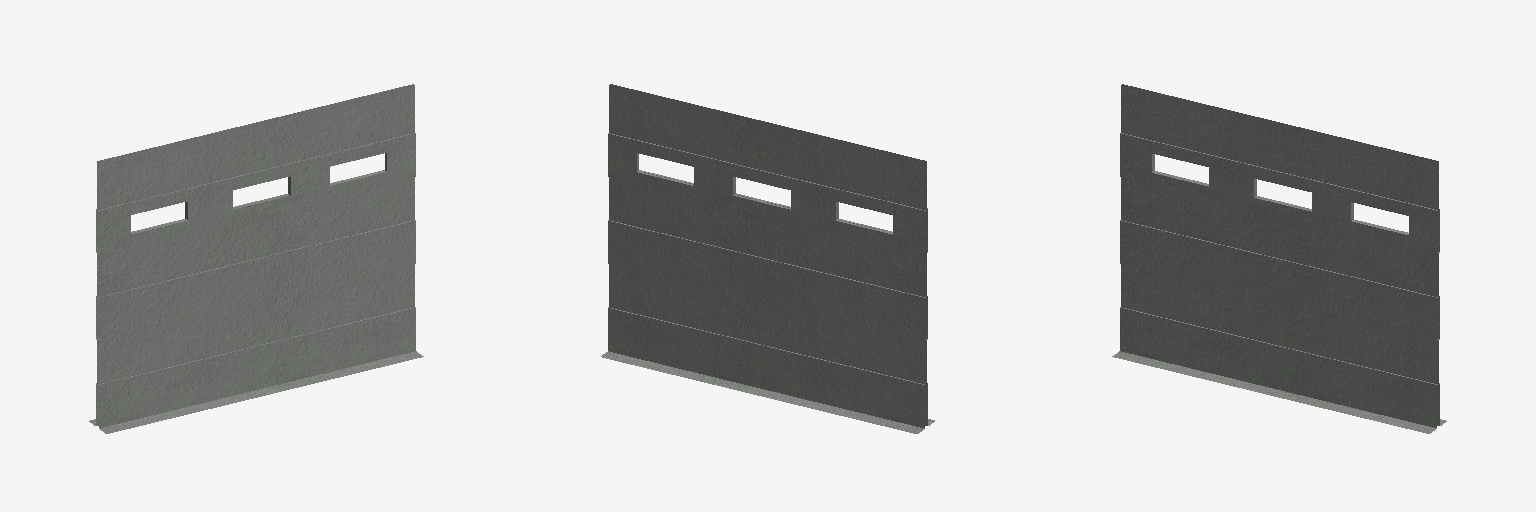
3 renders of one model, left to right at view 1: azimuth 30°, elevation 25°; view 2: azimuth 150°, elevation 25°; view 3: azimuth 330°, elevation 25°, orthographic.
Visible parts, largest first — view 1: puerta:polySurface26polySurface17; view 2: puerta:polySurface26polySurface17; view 3: puerta:polySurface26polySurface17.
Part boxes in pixels (left/top/right/bottom): puerta:polySurface26polySurface17: left=89, top=84, right=423, bottom=433; puerta:polySurface26polySurface17: left=601, top=84, right=934, bottom=433; puerta:polySurface26polySurface17: left=1112, top=84, right=1446, bottom=433.
Size of the model in its own units: 2.5 by 2 by 0.2539.
Materials: 1 (1 with a texture image).